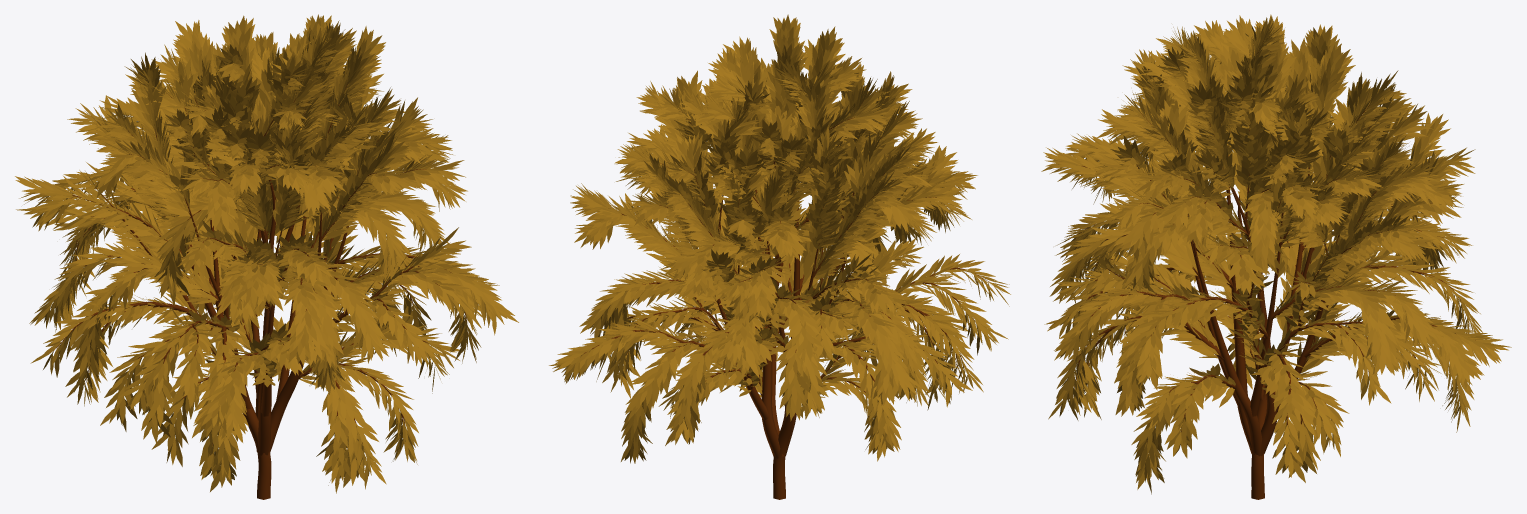
Rendered from arbol2UnityOtoño.fbx.
The picture shows the model from 3 angles, left to right: view 1: azimuth 30°, elevation 25°; view 2: azimuth 150°, elevation 25°; view 3: azimuth 270°, elevation 25°; orthographic projection. The views are drawn at different scales.
Parts seen in each view (by area): view 1: leaves, tree; view 2: leaves, tree; view 3: leaves, tree.
Boxes of the visible parts, x1,y1,x2,y2 form: leaves: (15, 14, 518, 493); tree: (52, 75, 467, 499); leaves: (549, 14, 1010, 463); tree: (584, 90, 988, 499); leaves: (1041, 14, 1511, 494); tree: (1070, 41, 1475, 499).
Size of the model in its own units: 593 by 687 by 614.
